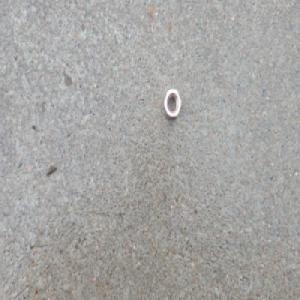Nut: (163, 87, 181, 120)
